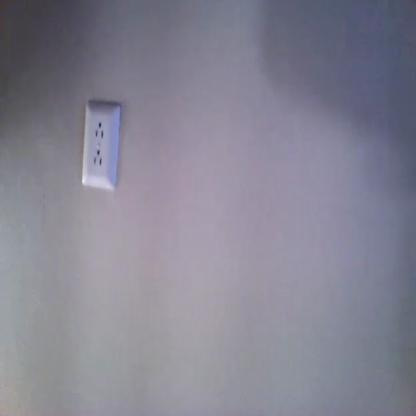OUTLET: (81, 102, 121, 192)
